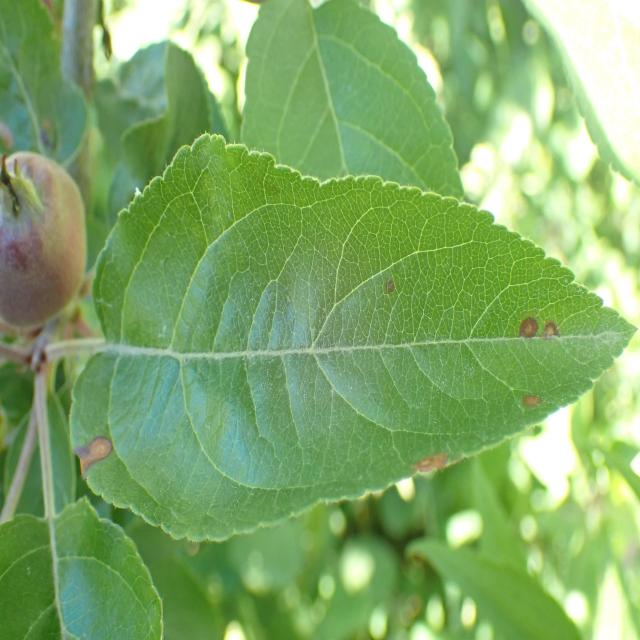Black Rot: (54, 421, 133, 494), (516, 296, 570, 356), (403, 448, 458, 489), (506, 378, 550, 421), (380, 261, 404, 314)
